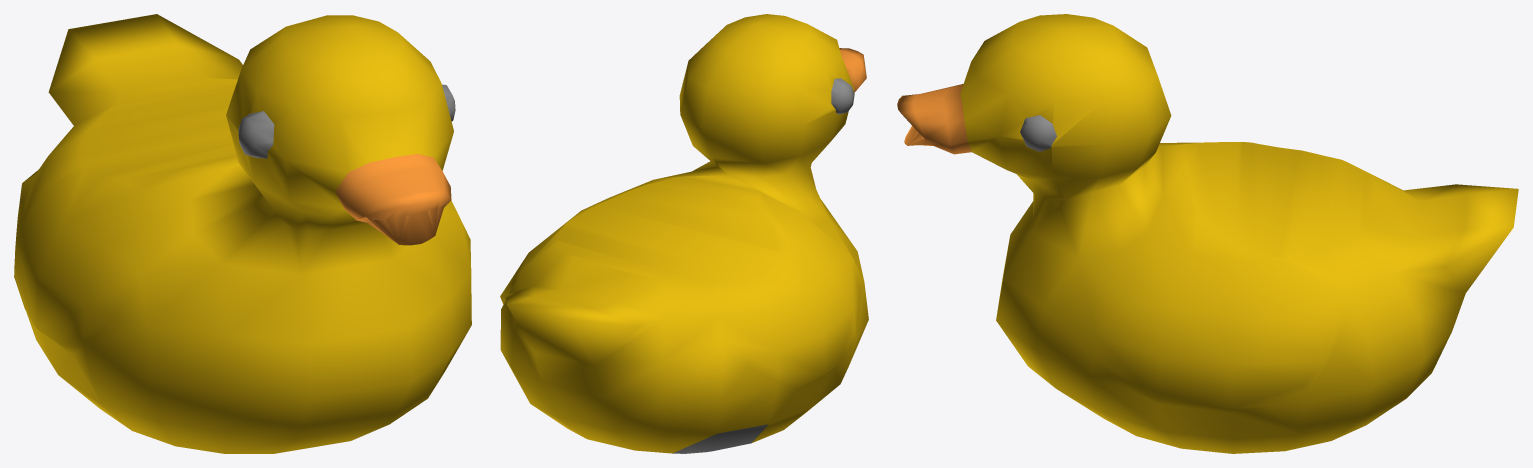
File: pato.obj
The picture shows the model from 3 angles, left to right: view 1: azimuth 30°, elevation 25°; view 2: azimuth 150°, elevation 25°; view 3: azimuth 270°, elevation 25°; orthographic projection. The views are drawn at different scales.
Visible parts, largest first — view 1: d_model:Group_001; view 2: d_model:Group_001; view 3: d_model:Group_001.
Part boxes in pixels (x1=…): d_model:Group_001: x1=14, y1=14, x2=471, y2=453; d_model:Group_001: x1=500, y1=14, x2=868, y2=453; d_model:Group_001: x1=897, y1=14, x2=1518, y2=453.
Size of the model in its own units: 0.6882 by 0.7675 by 1.1.
4 materials, 3 textured.
